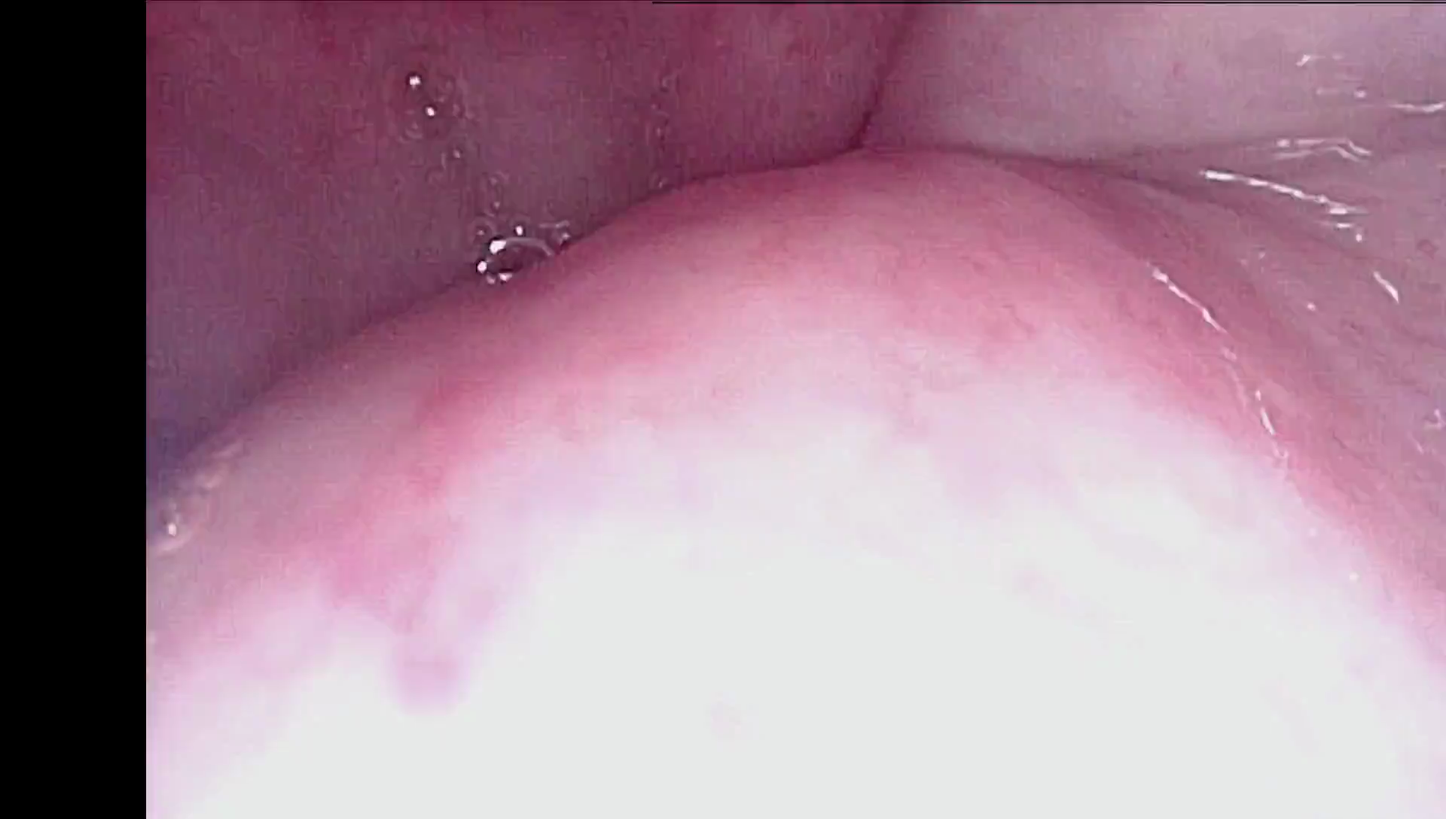close_wall: (155, 200, 1446, 819)
